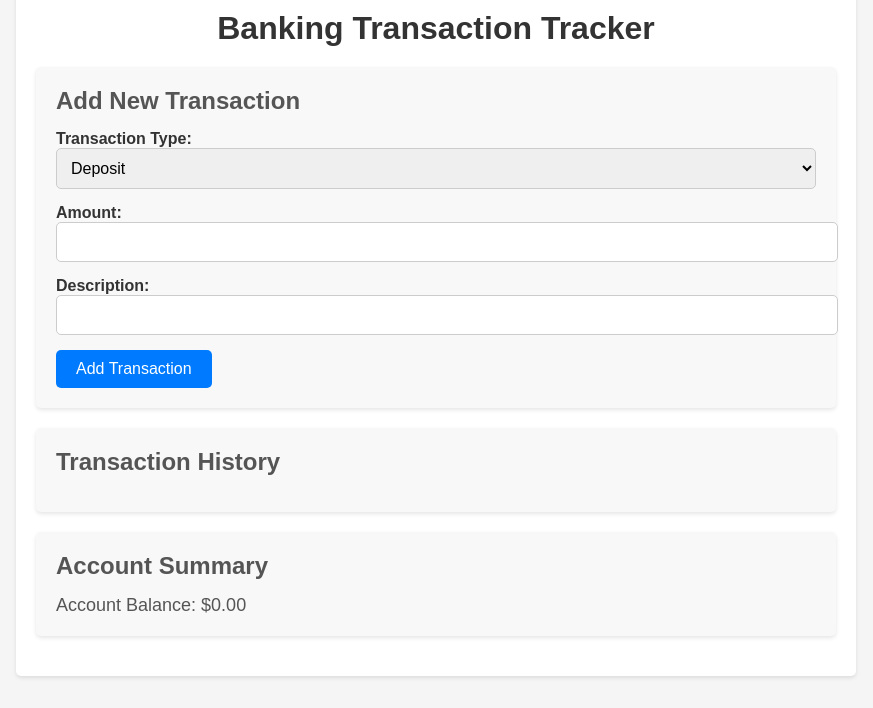
Test: Bank › updates_account_balance_correctly_after_multiple_transactions
# Add a deposit transaction
Select "Deposit" in the dropdown labelled "Transaction Type:" at {"x": 436, "y": 168}, box [56, 148, 816, 189]
Type "100" into the number field labelled "Amount:" at {"x": 447, "y": 242}, box [56, 222, 838, 262]
Type "Deposit Test" into the field labelled "Description:" at {"x": 447, "y": 315}, box [56, 295, 838, 335]
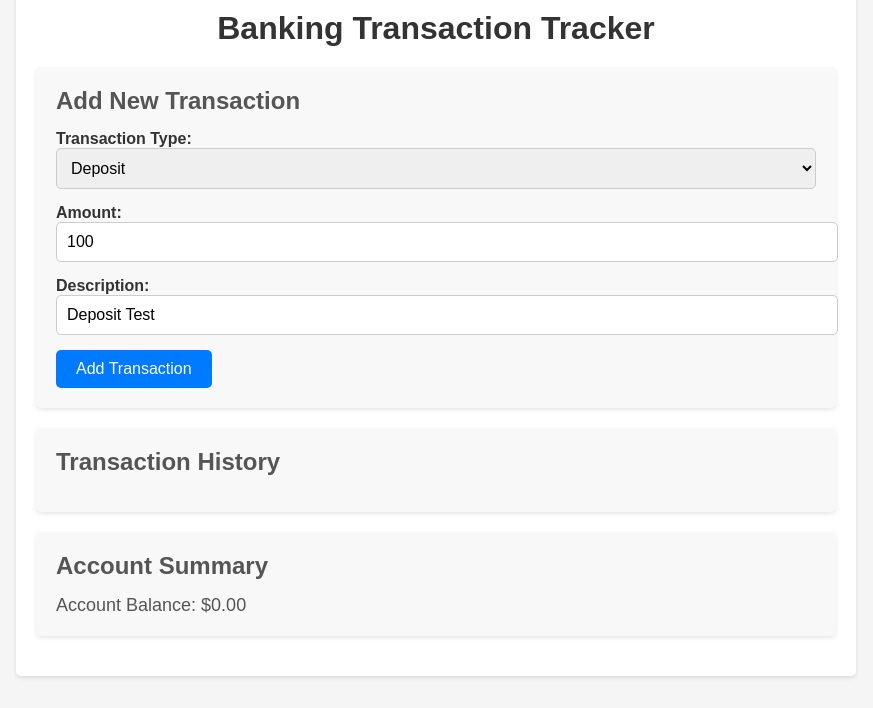
Click the button "Add Transaction" at {"x": 134, "y": 369}, box [56, 350, 212, 388]
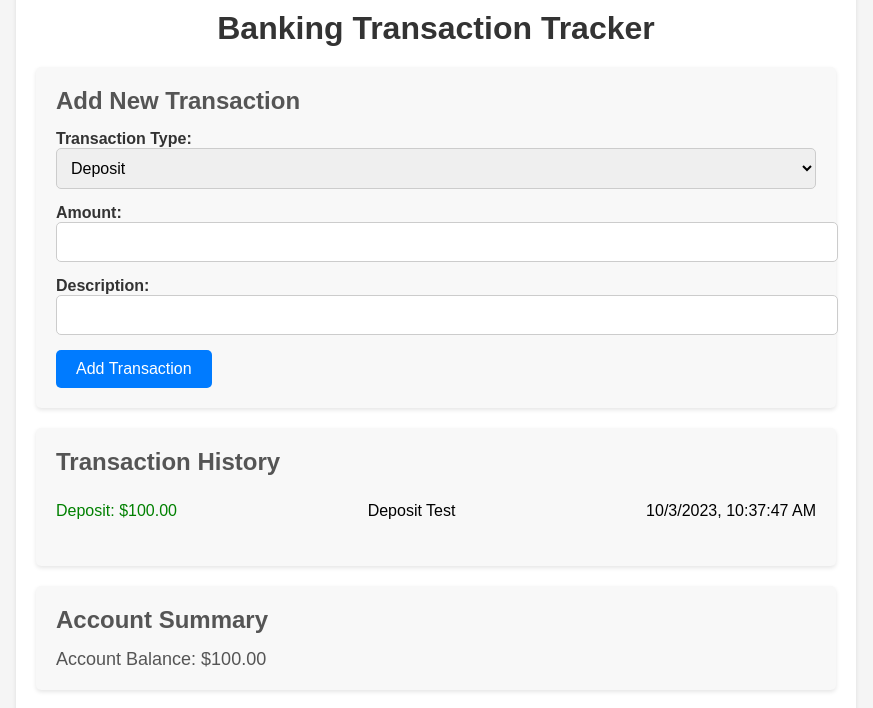
# Add a withdrawal transaction
Select "Withdrawal" in the dropdown labelled "Transaction Type:" at {"x": 436, "y": 168}, box [56, 148, 816, 189]
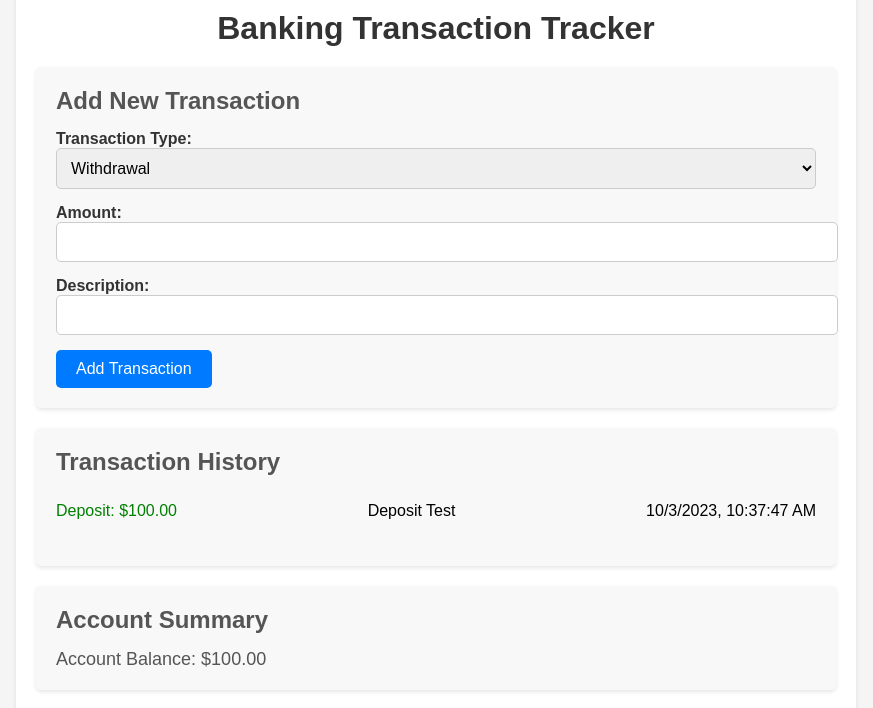
Type "50" into the number field labelled "Amount:" at {"x": 447, "y": 242}, box [56, 222, 838, 262]
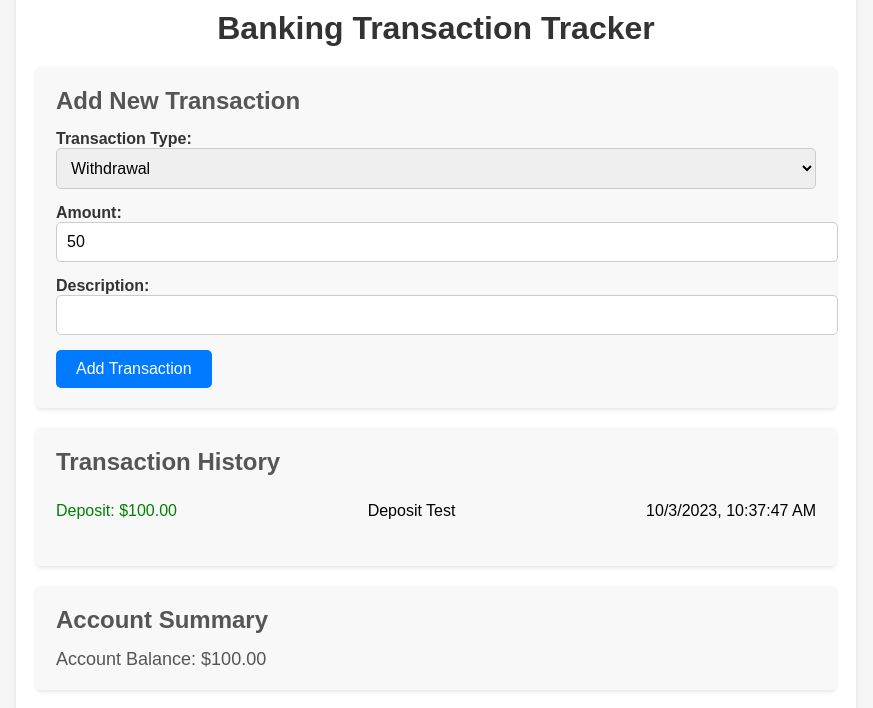
Type "Withdrawal Test" into the field labelled "Description:" at {"x": 447, "y": 315}, box [56, 295, 838, 335]
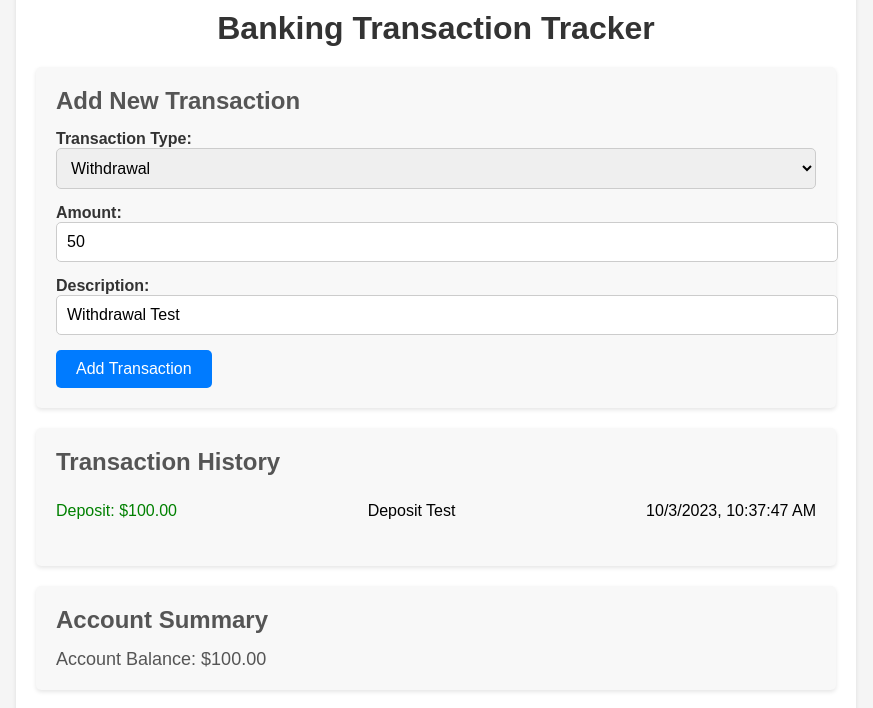
Click the button "Add Transaction" at {"x": 134, "y": 369}, box [56, 350, 212, 388]
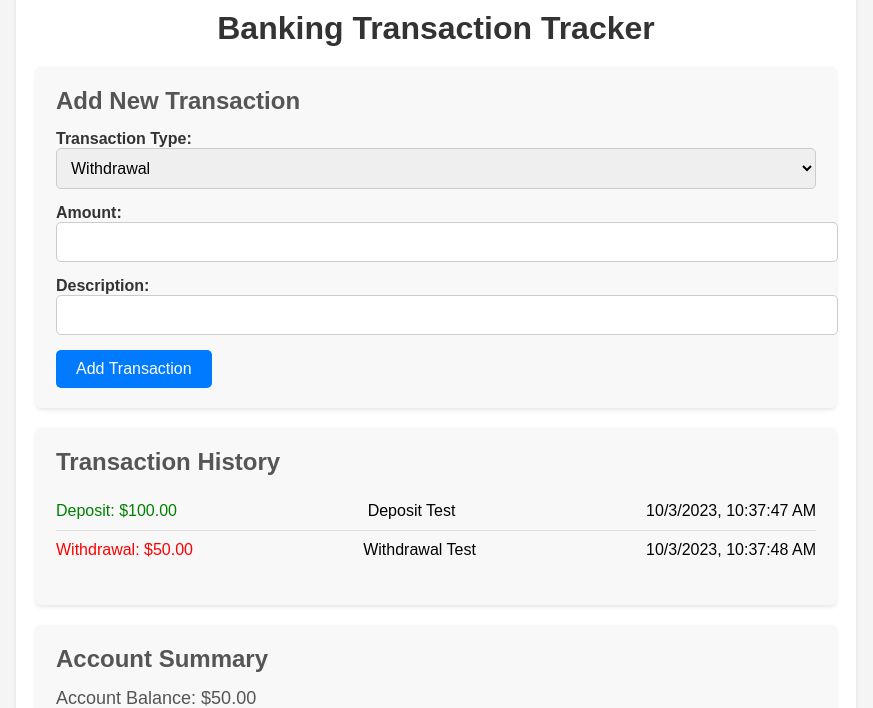
Expected: the text "Account Balance: $50.00" is shown, [56, 688, 256, 707]
